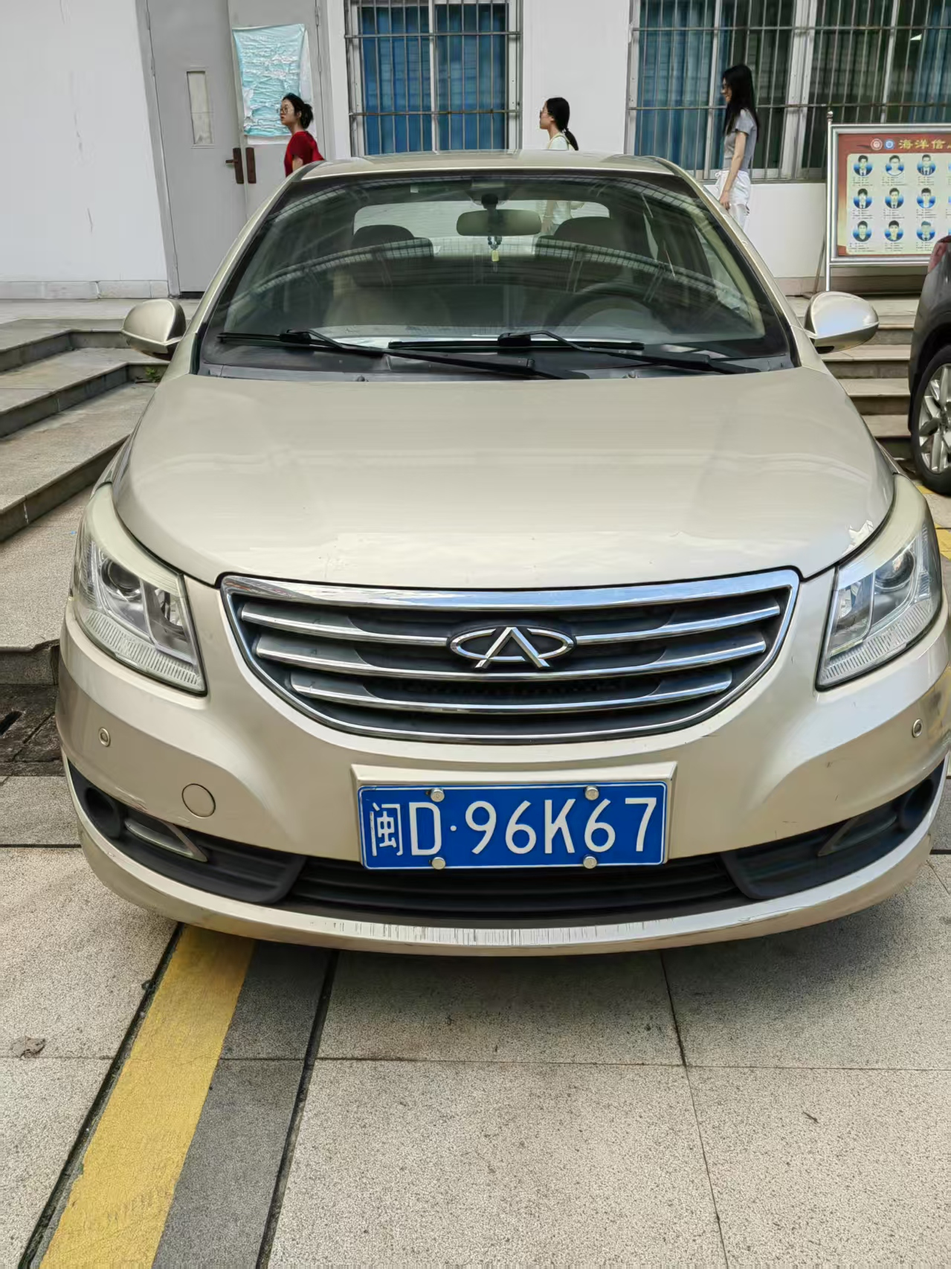plate: (358, 791, 659, 867)
